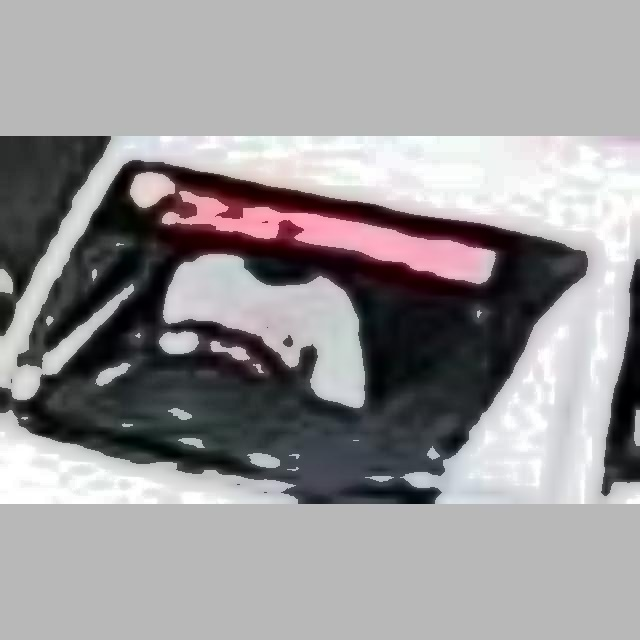tidak-pakai: (143, 234, 354, 430)
